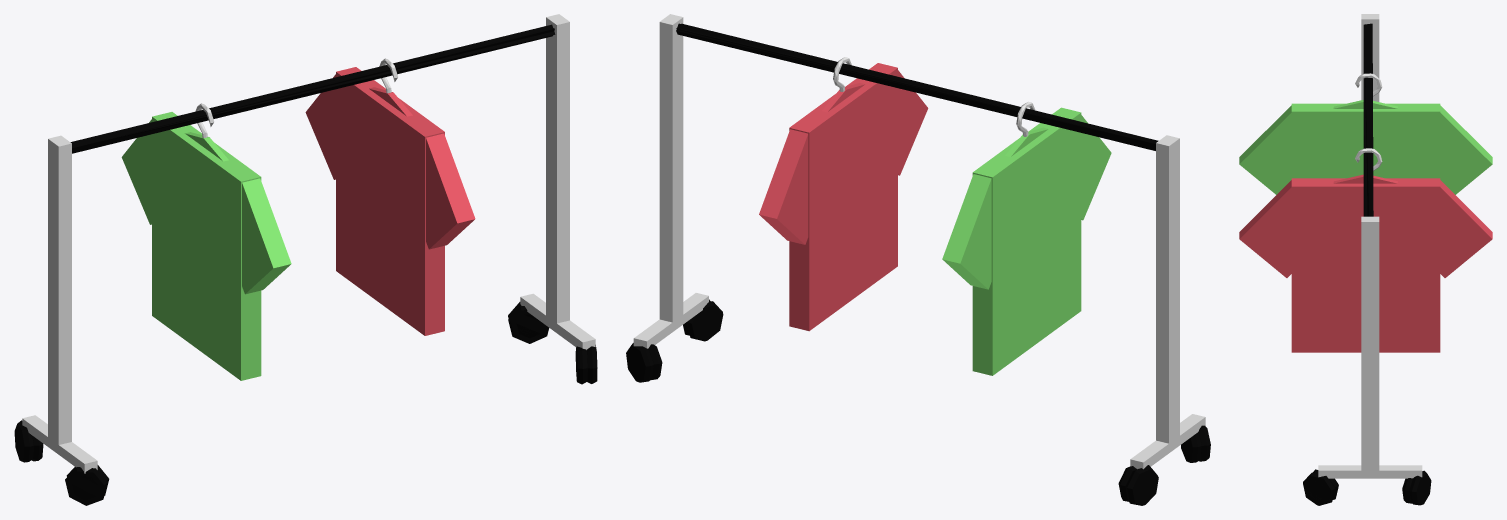
Rendered from rack_2.fbx.
3 views of the same model, side by side, from view 1: azimuth 30°, elevation 25°; view 2: azimuth 150°, elevation 25°; view 3: azimuth 270°, elevation 25° (orthographic). The views are drawn at different scales.
Visible parts, largest first — view 1: Plane.001, Plane.003, Stand.R, Stand.L, Bar, Roll.R_1, Roll.L_2, Roll.R_2, Roll.L_1; view 2: Plane.001, Plane.003, Stand.L, Stand.R, Bar, Roll.R_2, Roll.L_2, Roll.L_1, Roll.R_1; view 3: Plane.003, Plane.001, Stand.L, Bar, Stand.R, Roll.L_1, Roll.L_2.
Part boxes in pixels (x1,y1,x2,y2): Plane.001: (121, 112, 291, 380); Plane.003: (305, 67, 475, 335); Stand.R: (22, 135, 97, 473); Stand.L: (520, 14, 595, 349); Bar: (70, 24, 555, 153); Roll.R_1: (65, 465, 109, 505); Roll.L_2: (508, 302, 548, 343); Roll.R_2: (14, 420, 43, 462); Roll.L_1: (575, 345, 597, 384); Plane.001: (942, 107, 1111, 375); Plane.003: (759, 63, 928, 331); Stand.L: (633, 14, 708, 348); Stand.R: (1130, 135, 1205, 469); Bar: (676, 23, 1158, 150); Roll.R_2: (1118, 465, 1158, 505); Roll.L_2: (626, 343, 662, 382); Roll.L_1: (683, 299, 723, 341); Roll.R_1: (1181, 425, 1210, 462); Plane.003: (1239, 174, 1492, 352); Plane.001: (1239, 100, 1492, 194); Stand.L: (1318, 216, 1422, 478); Bar: (1363, 23, 1373, 216); Stand.R: (1361, 14, 1379, 101); Roll.L_1: (1303, 469, 1338, 505); Roll.L_2: (1402, 470, 1431, 505).
Size of the model in its own units: 561 by 346 by 276.
